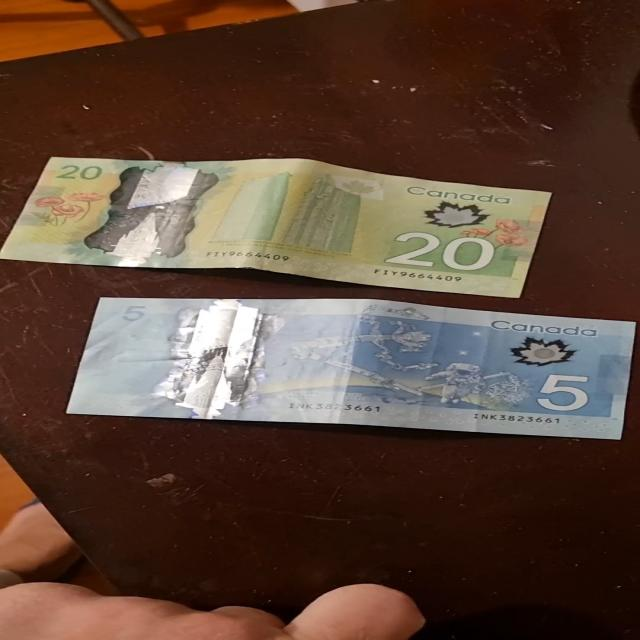20 cad: (16, 157, 558, 296)
5 cad: (83, 300, 640, 440)
